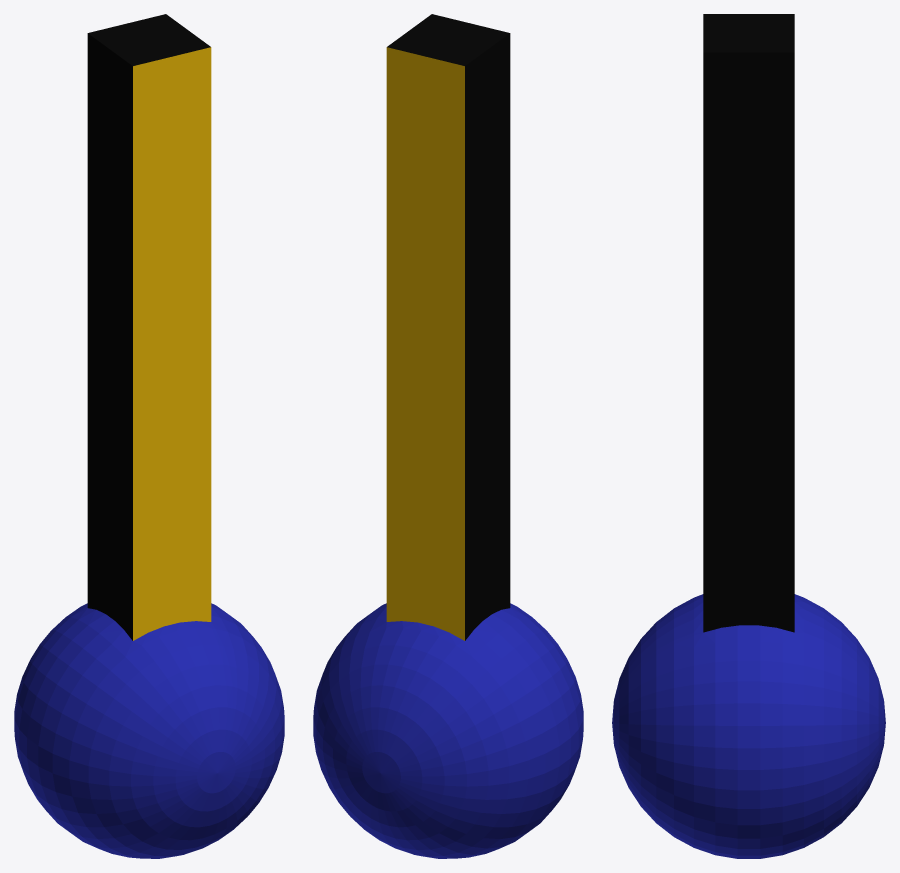
Rendered from Upper Arm.obj.
3 renders of one model, left to right at view 1: azimuth 30°, elevation 25°; view 2: azimuth 150°, elevation 25°; view 3: azimuth 270°, elevation 25°, orthographic.
Parts seen in each view (by area): view 1: Body3; view 2: Body3; view 3: Body3.
Part boxes in pixels (bbox=[...]): Body3: bbox=[14, 14, 284, 858]; Body3: bbox=[313, 14, 583, 858]; Body3: bbox=[612, 14, 885, 858].
Size of the model in its own units: 8.94 by 29.48 by 9.
